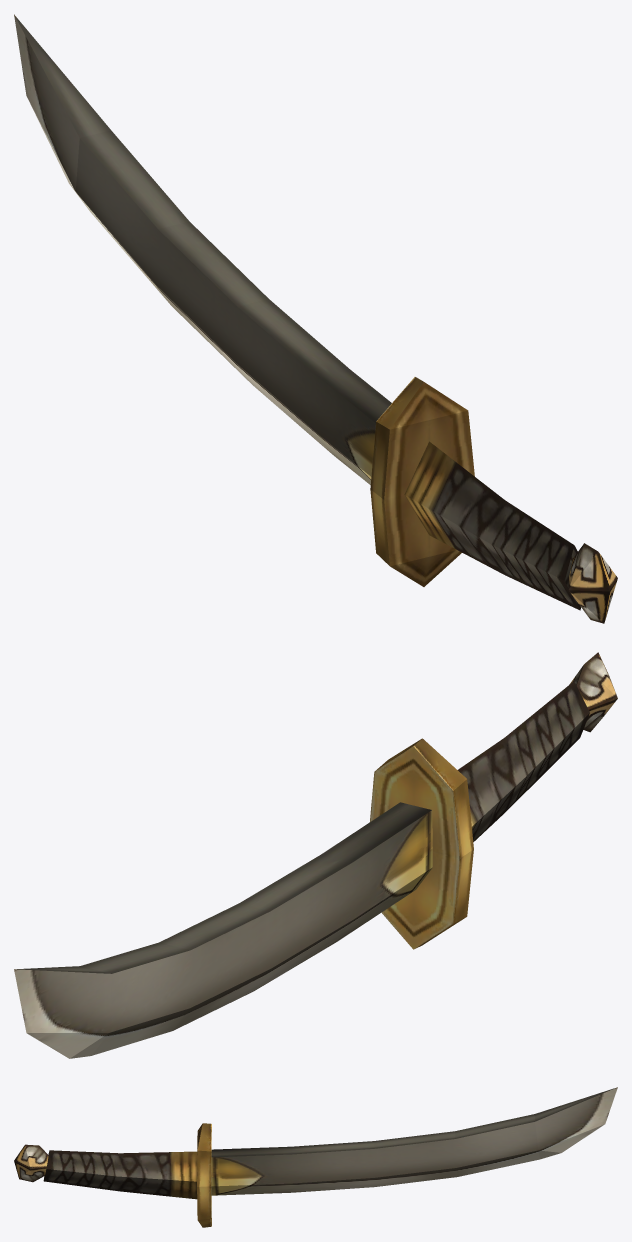
File: 0013_EQUIP_Dagger.fbx
3 views of the same model, one above another, from view 1: azimuth 30°, elevation 25°; view 2: azimuth 150°, elevation 25°; view 3: azimuth 270°, elevation 25° (orthographic). The views are drawn at different scales.
Visible parts, largest first — view 1: 0013_EQUIP_Dagger; view 2: 0013_EQUIP_Dagger; view 3: 0013_EQUIP_Dagger.
Part boxes in pixels (x1,y1,x2,y2): 0013_EQUIP_Dagger: [14, 14, 617, 623]; 0013_EQUIP_Dagger: [14, 652, 617, 1058]; 0013_EQUIP_Dagger: [14, 1087, 617, 1227].
Size of the model in its own units: 0.0928 by 0.2686 by 1.05.
